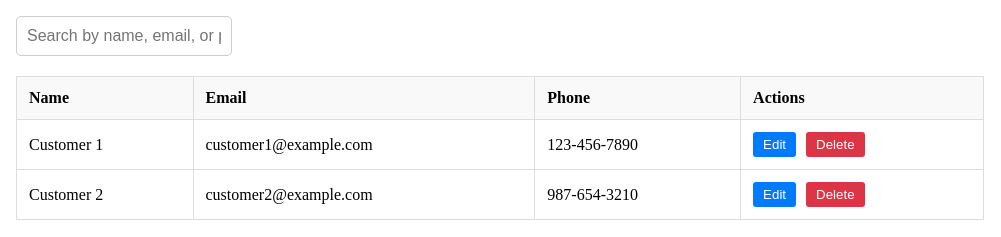
Test case: CustomerList › should filter customers based on search input
This screenshot has width=1001, height=237.
Note: Search for "Customer 1"
Type "Customer 1" into the field with placeholder "Search by name, email, or phone" at (124, 36), box [16,16,232,56]
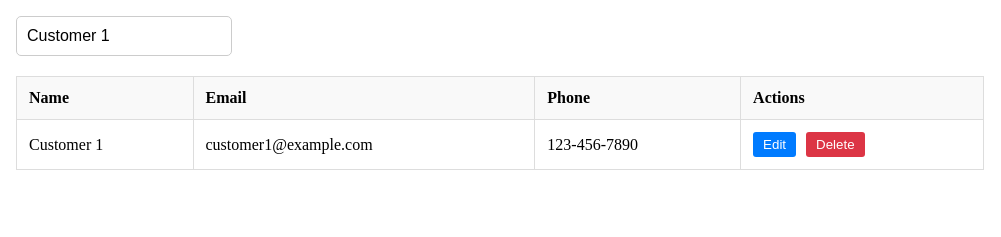
Expected: the text "Customer 1" is shown, [16,120,193,170]
Expected: the text "Customer 2" is gone
